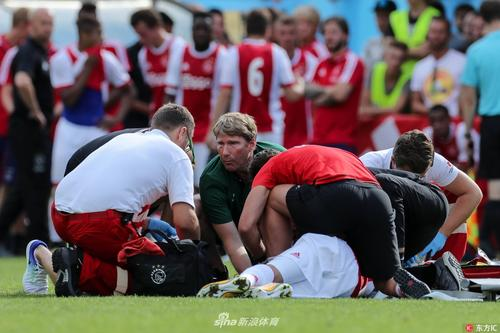10+: (1, 1, 500, 302)
down: (197, 217, 405, 308)
